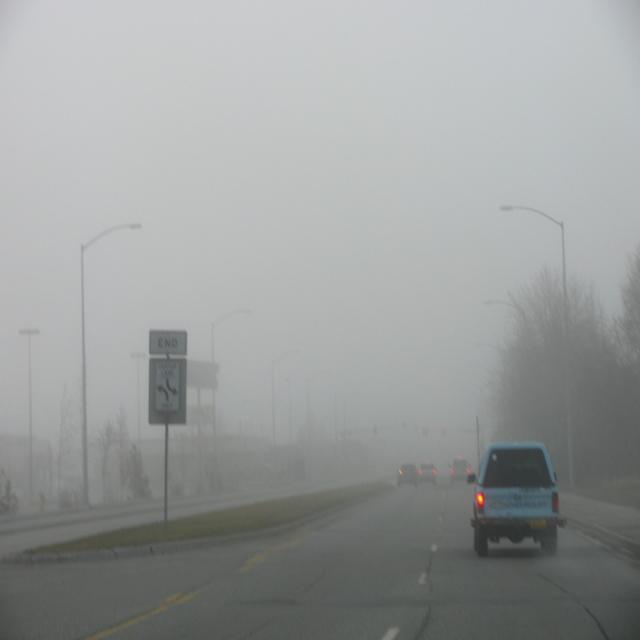car: (471, 447, 565, 554), (448, 455, 472, 486), (395, 461, 419, 489), (418, 460, 438, 485)
